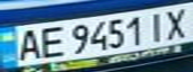1: (121, 12, 148, 46)
4: (87, 18, 112, 52)
5: (106, 16, 127, 50)
9: (66, 20, 90, 55)
A: (9, 26, 45, 62)
E: (33, 24, 66, 60)
I: (142, 9, 172, 43)
X: (157, 5, 193, 39)
